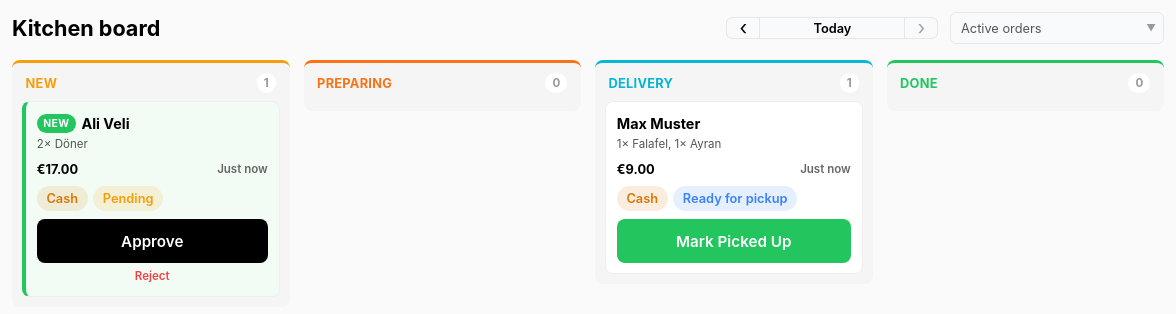
Test: OrdersPage › shows completed orders as a table when the "last 2 weeks" filter is selected
This screenshot has width=1176, height=314.
Select "Completed — last 2 weeks" in the dropdown named "Show" at (1057, 28), box top-left (950, 12), bottom-right (1164, 44)
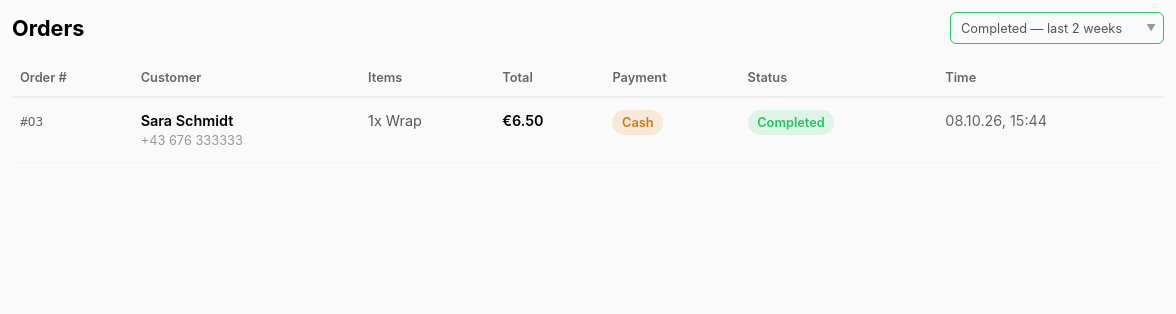
Expected: the heading "Orders" is shown, top-left (12, 12), bottom-right (84, 44)
Expected: the heading "Kitchen board" is gone
Expected: the text labelled "day" is gone
